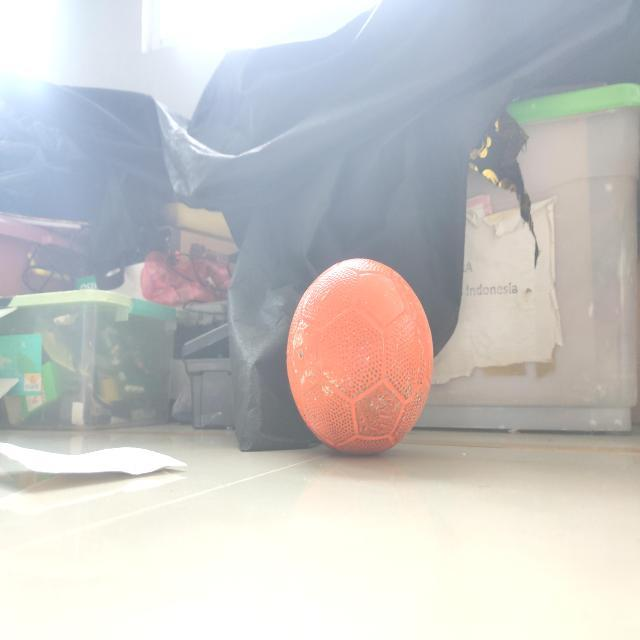bola: (286, 254, 438, 462)
